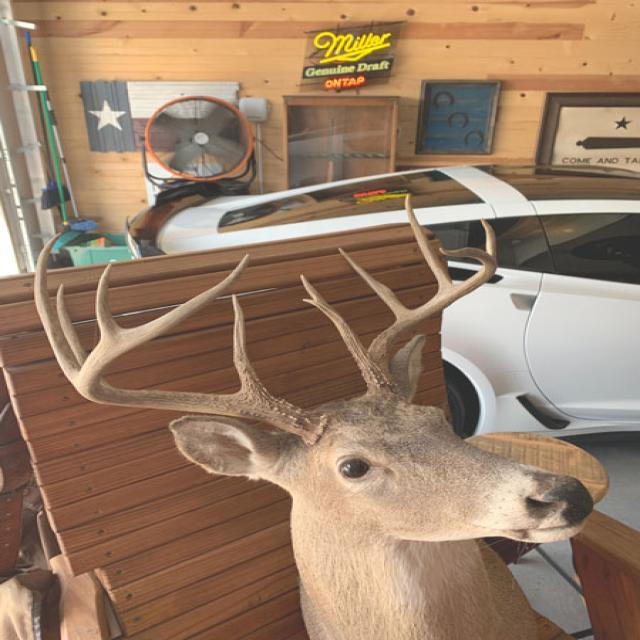E1: (302, 298, 316, 307)
L-F: (365, 246, 497, 400)
L-G1: (299, 273, 382, 382)
L-G2: (338, 247, 410, 321)
L-G3: (405, 192, 453, 289)
R-F: (74, 253, 327, 444)
R-G1: (231, 293, 268, 393)
R-G3: (32, 230, 80, 385)
R-G4: (95, 263, 122, 337)
